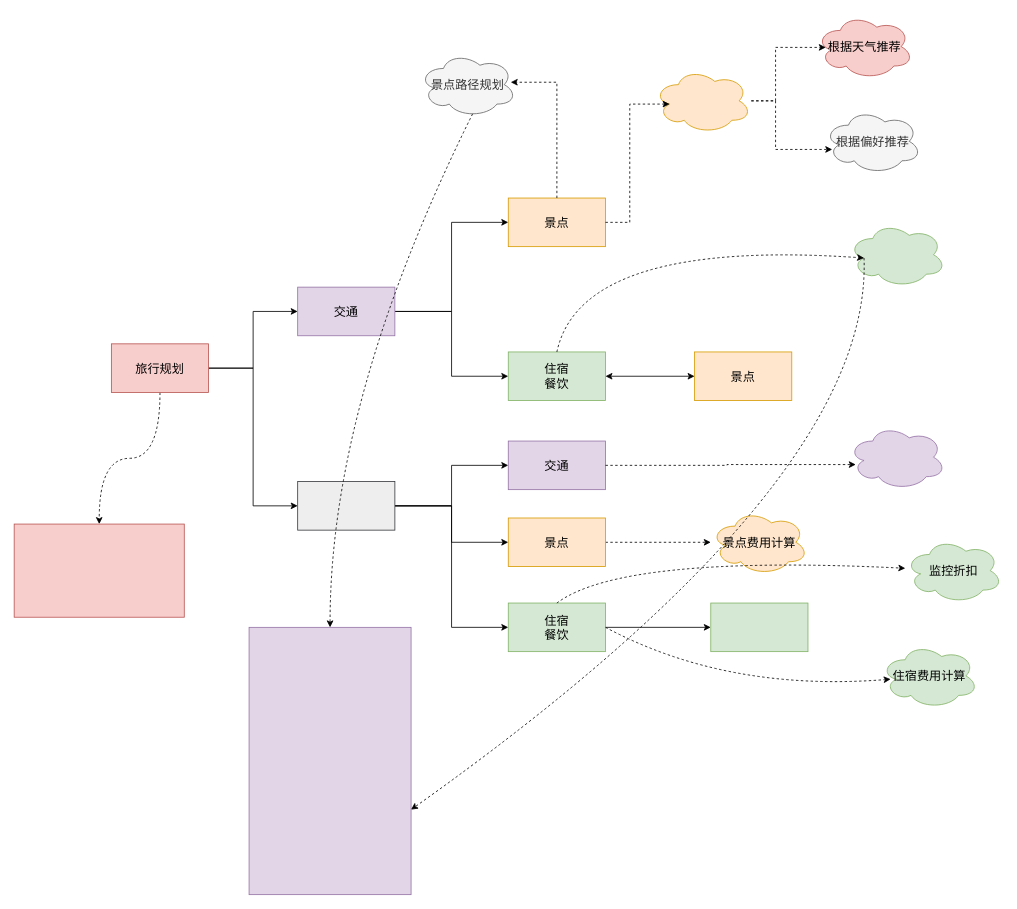
The diagram is 1017 pixels wide and 909 high, and some of its shapes have lost their labels. The box of each missing label's shape, as (x1, y1, x2, y2) in pixels:
交通费用计算: (848, 424, 946, 490)
住宿路线规划: (848, 222, 946, 287)
十一国庆 从深圳到清远 自驾游三天 不想旅程安排的太满: (13, 523, 184, 617)
折扣: (710, 602, 808, 652)
景点推荐: (653, 68, 751, 133)
费用: (297, 481, 395, 530)
路线规划Agent 角色定义：能够根据地点，规划最优路线 具有的能力： 能够进行地点的搜索，以及经纬度坐标转换 路线规划 将规划好的路线进行可视化展示: (248, 627, 411, 895)
